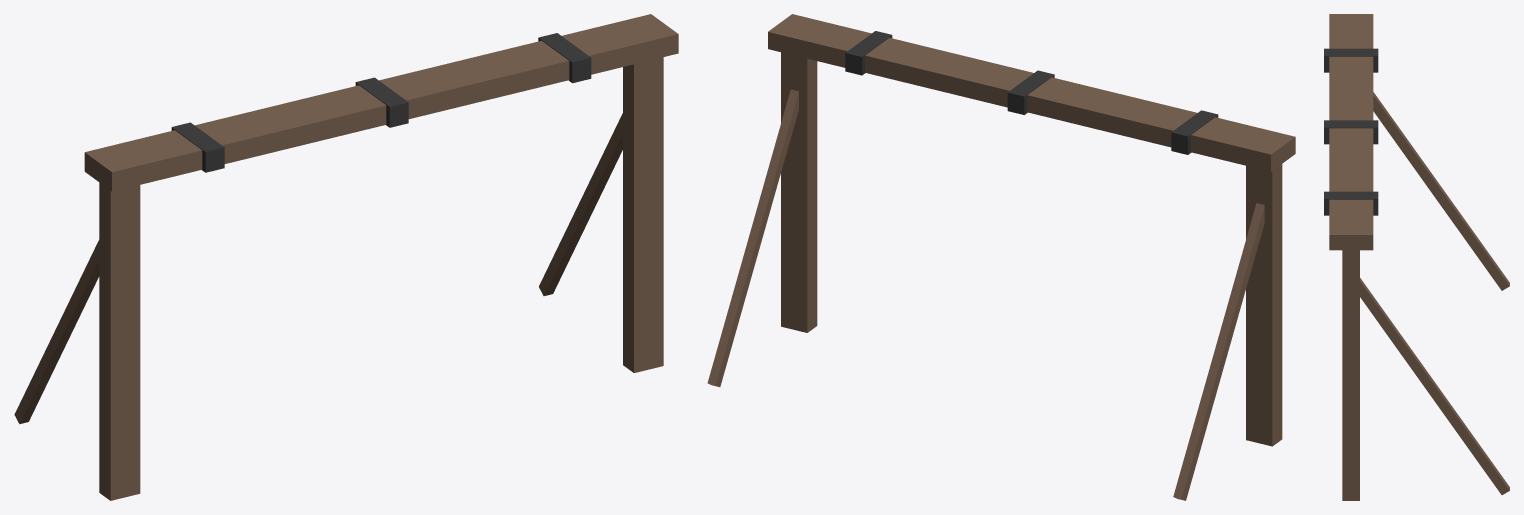
The model's file is west_holder.fbx.
3 views of the same model, side by side, from view 1: azimuth 30°, elevation 25°; view 2: azimuth 150°, elevation 25°; view 3: azimuth 270°, elevation 25° (orthographic). The views are drawn at different scales.
Visible parts, largest first — view 1: pCube9; view 2: pCube9; view 3: pCube9.
Part boxes in pixels (x1,y1,x2,y2): pCube9: (14, 14, 678, 500); pCube9: (707, 14, 1295, 500); pCube9: (1324, 14, 1509, 500).
Size of the model in its own units: 6.16 by 3.5 by 2.19.
